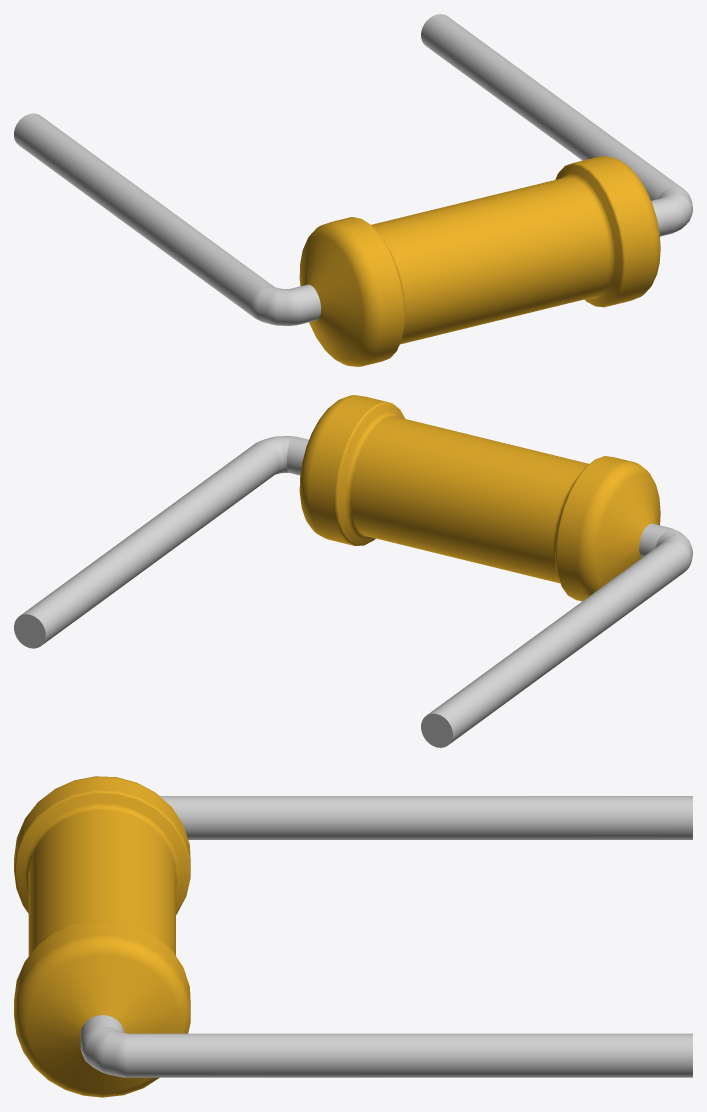
3 views of the same model, one above another, from view 1: azimuth 30°, elevation 25°; view 2: azimuth 150°, elevation 25°; view 3: azimuth 270°, elevation 25° (orthographic). The views are drawn at different scales.
Visible parts, largest first — view 1: Resistor_body:1, Resistor_Pin:2, Resistor_Pin:1; view 2: Resistor_body:1, Resistor_Pin:1, Resistor_Pin:2; view 3: Resistor_body:1, Resistor_Pin:1, Resistor_Pin:2.
Boxes of the visible parts, x1=… form: Resistor_body:1: x1=299, y1=156, x2=660, y2=366; Resistor_Pin:2: x1=14, y1=113, x2=320, y2=325; Resistor_Pin:1: x1=421, y1=14, x2=692, y2=236; Resistor_body:1: x1=299, y1=395, x2=660, y2=601; Resistor_Pin:1: x1=14, y1=436, x2=308, y2=648; Resistor_Pin:2: x1=421, y1=523, x2=692, y2=747; Resistor_body:1: x1=14, y1=776, x2=190, y2=1097; Resistor_Pin:1: x1=80, y1=1015, x2=692, y2=1077; Resistor_Pin:2: x1=160, y1=796, x2=692, y2=839.
Size of the model in its own units: 0.00822 by 0.0024 by 0.0092.
